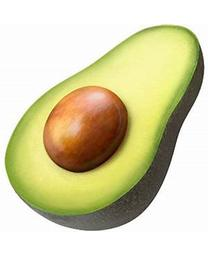avocado: (5, 25, 205, 231)
